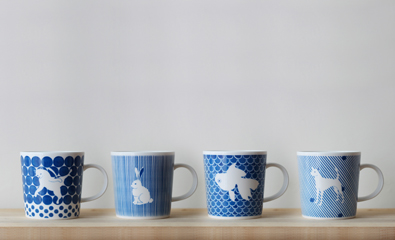cup: (19, 150, 109, 220), (295, 149, 385, 219), (200, 149, 289, 219), (109, 150, 199, 219)
